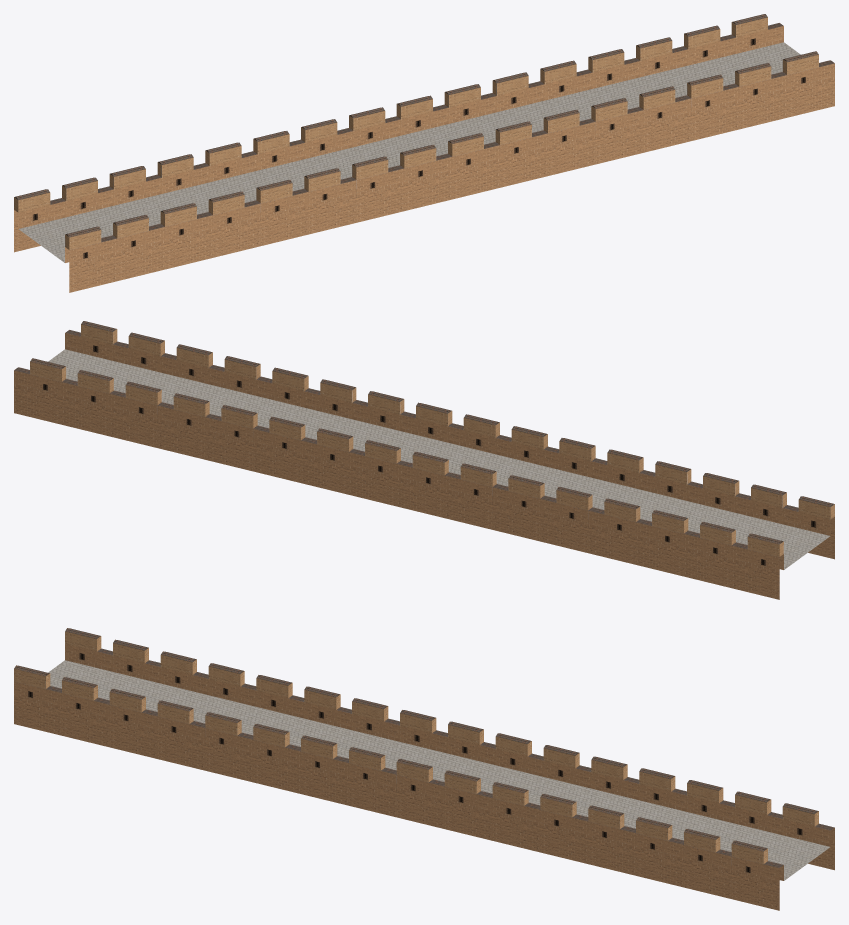
The model's file is muro.obj.
3 renders of one model, top to bottom at view 1: azimuth 30°, elevation 25°; view 2: azimuth 150°, elevation 25°; view 3: azimuth 330°, elevation 25°, orthographic.
Parts seen in each view (by area): view 1: muro_Plane; view 2: muro_Plane; view 3: muro_Plane.
Boxes of the visible parts, box(x1,y1,x2,y2) form: muro_Plane: box(14, 14, 834, 292); muro_Plane: box(14, 321, 834, 599); muro_Plane: box(14, 628, 834, 910).
Bounding box in the file's own units: 64 × 4.56 × 8.02.
